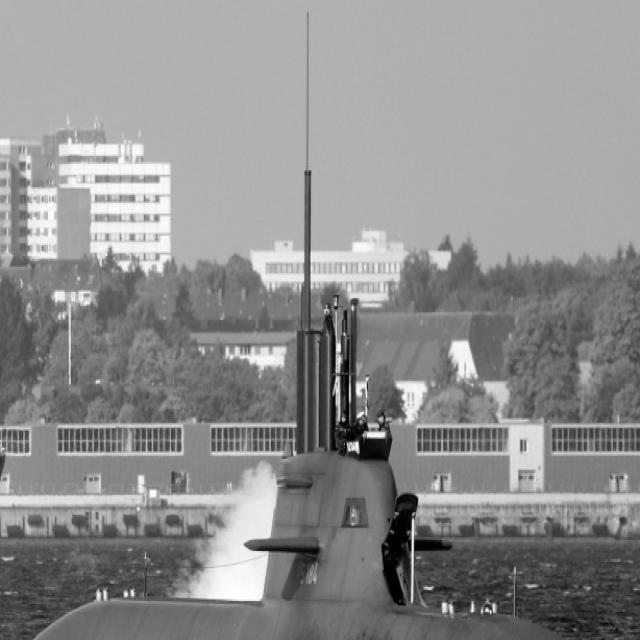submarine: (1, 1, 640, 640)
